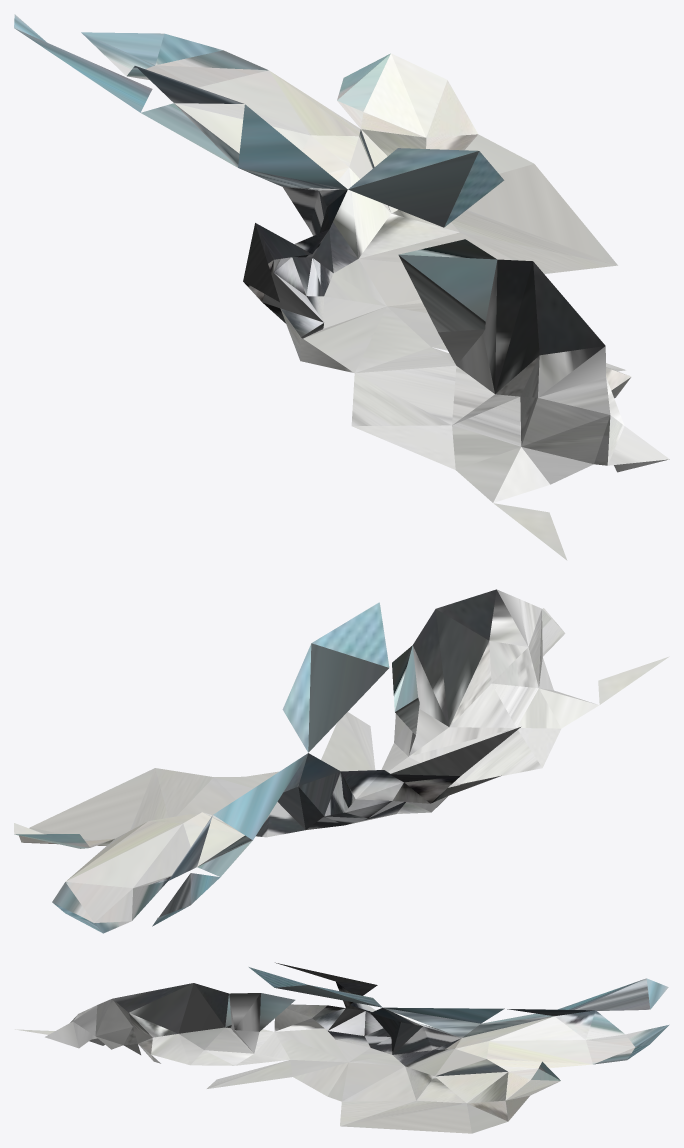
The picture shows the model from 3 angles, top to bottom: view 1: azimuth 30°, elevation 25°; view 2: azimuth 150°, elevation 25°; view 3: azimuth 270°, elevation 25°; orthographic projection. The views are drawn at different scales.
Parts seen in each view (by area): view 1: Left_Landscape_LO2; view 2: Left_Landscape_LO2; view 3: Left_Landscape_LO2.
Part boxes in pixels (x1,y1,x2,y2): Left_Landscape_LO2: (14,14,669,560); Left_Landscape_LO2: (14,589,669,933); Left_Landscape_LO2: (15,962,669,1133).
Bounding box in the file's own units: 5485 × 2344 × 13051.
Materials: 1 (1 with a texture image).
